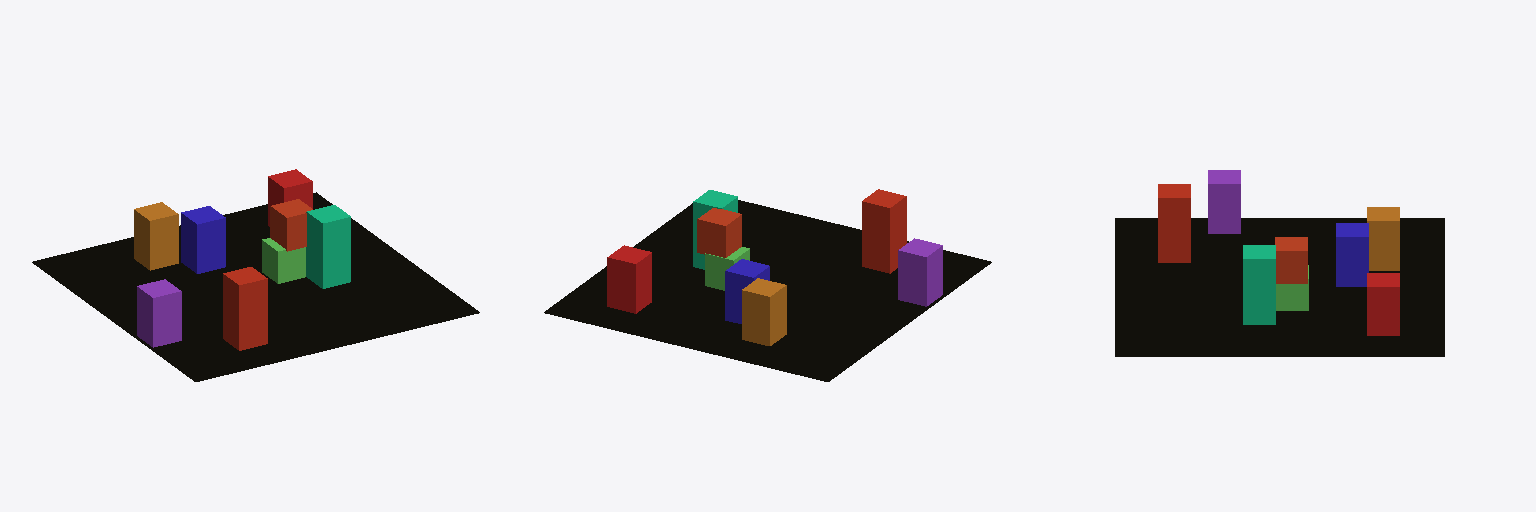
Rendered from Area.obj.
3 views of the same model, side by side, from view 1: azimuth 30°, elevation 25°; view 2: azimuth 150°, elevation 25°; view 3: azimuth 270°, elevation 25° (orthographic).
Parts seen in each view (by area): view 1: Plane, Cube, Cube.003, Cube.006, Cube.008, Cube.005, Cube.004, Cube.002, Cube.007; view 2: Plane, Cube, Cube.005, Cube.008, Cube.007, Cube.004, Cube.006, Cube.003, Cube.002; view 3: Plane, Cube.003, Cube, Cube.008, Cube.006, Cube.007, Cube.005, Cube.004, Cube.002.
Part boxes in pixels (bbox=[...]): Plane: bbox=[32, 192, 479, 381]; Cube: bbox=[223, 267, 267, 350]; Cube.003: bbox=[306, 205, 350, 288]; Cube.006: bbox=[181, 206, 225, 273]; Cube.008: bbox=[137, 279, 181, 347]; Cube.005: bbox=[134, 202, 178, 270]; Cube.004: bbox=[270, 199, 312, 251]; Cube.002: bbox=[262, 238, 305, 283]; Cube.007: bbox=[268, 169, 312, 226]; Plane: bbox=[544, 200, 991, 381]; Cube: bbox=[862, 189, 906, 273]; Cube.005: bbox=[742, 278, 786, 345]; Cube.008: bbox=[898, 238, 942, 306]; Cube.007: bbox=[607, 245, 651, 313]; Cube.004: bbox=[697, 208, 741, 257]; Cube.006: bbox=[725, 259, 769, 323]; Cube.003: bbox=[693, 190, 737, 269]; Cube.002: bbox=[705, 247, 749, 290]; Plane: bbox=[1115, 218, 1444, 356]; Cube.003: bbox=[1243, 245, 1275, 324]; Cube: bbox=[1158, 184, 1190, 262]; Cube.008: bbox=[1208, 170, 1240, 233]; Cube.006: bbox=[1336, 223, 1368, 286]; Cube.007: bbox=[1367, 273, 1399, 335]; Cube.005: bbox=[1367, 207, 1399, 270]; Cube.004: bbox=[1275, 237, 1307, 283]; Cube.002: bbox=[1276, 265, 1308, 310].
Size of the model in its own units: 20 by 4.58 by 20.